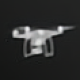plane: (11, 22, 76, 59)
